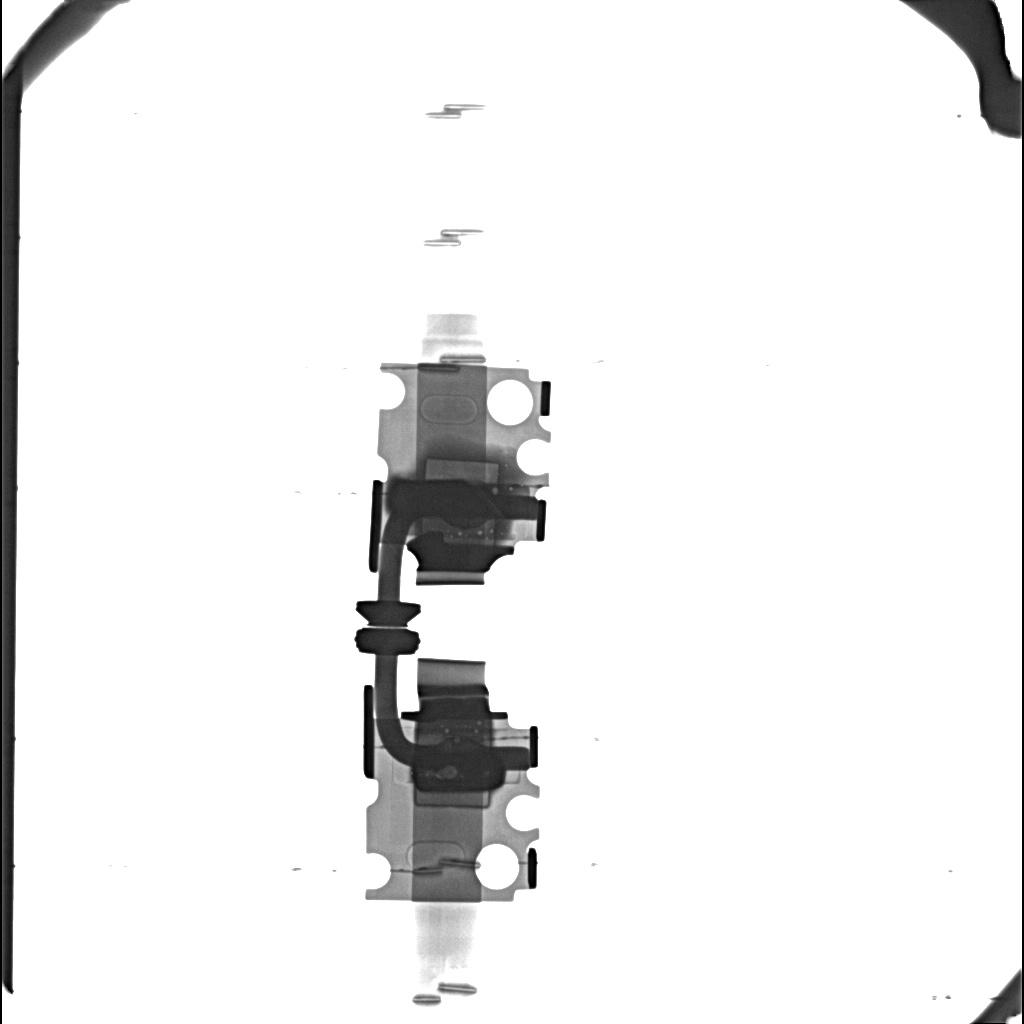defect: (413, 746, 504, 792), (387, 479, 493, 518), (424, 457, 501, 483), (414, 791, 491, 808)
